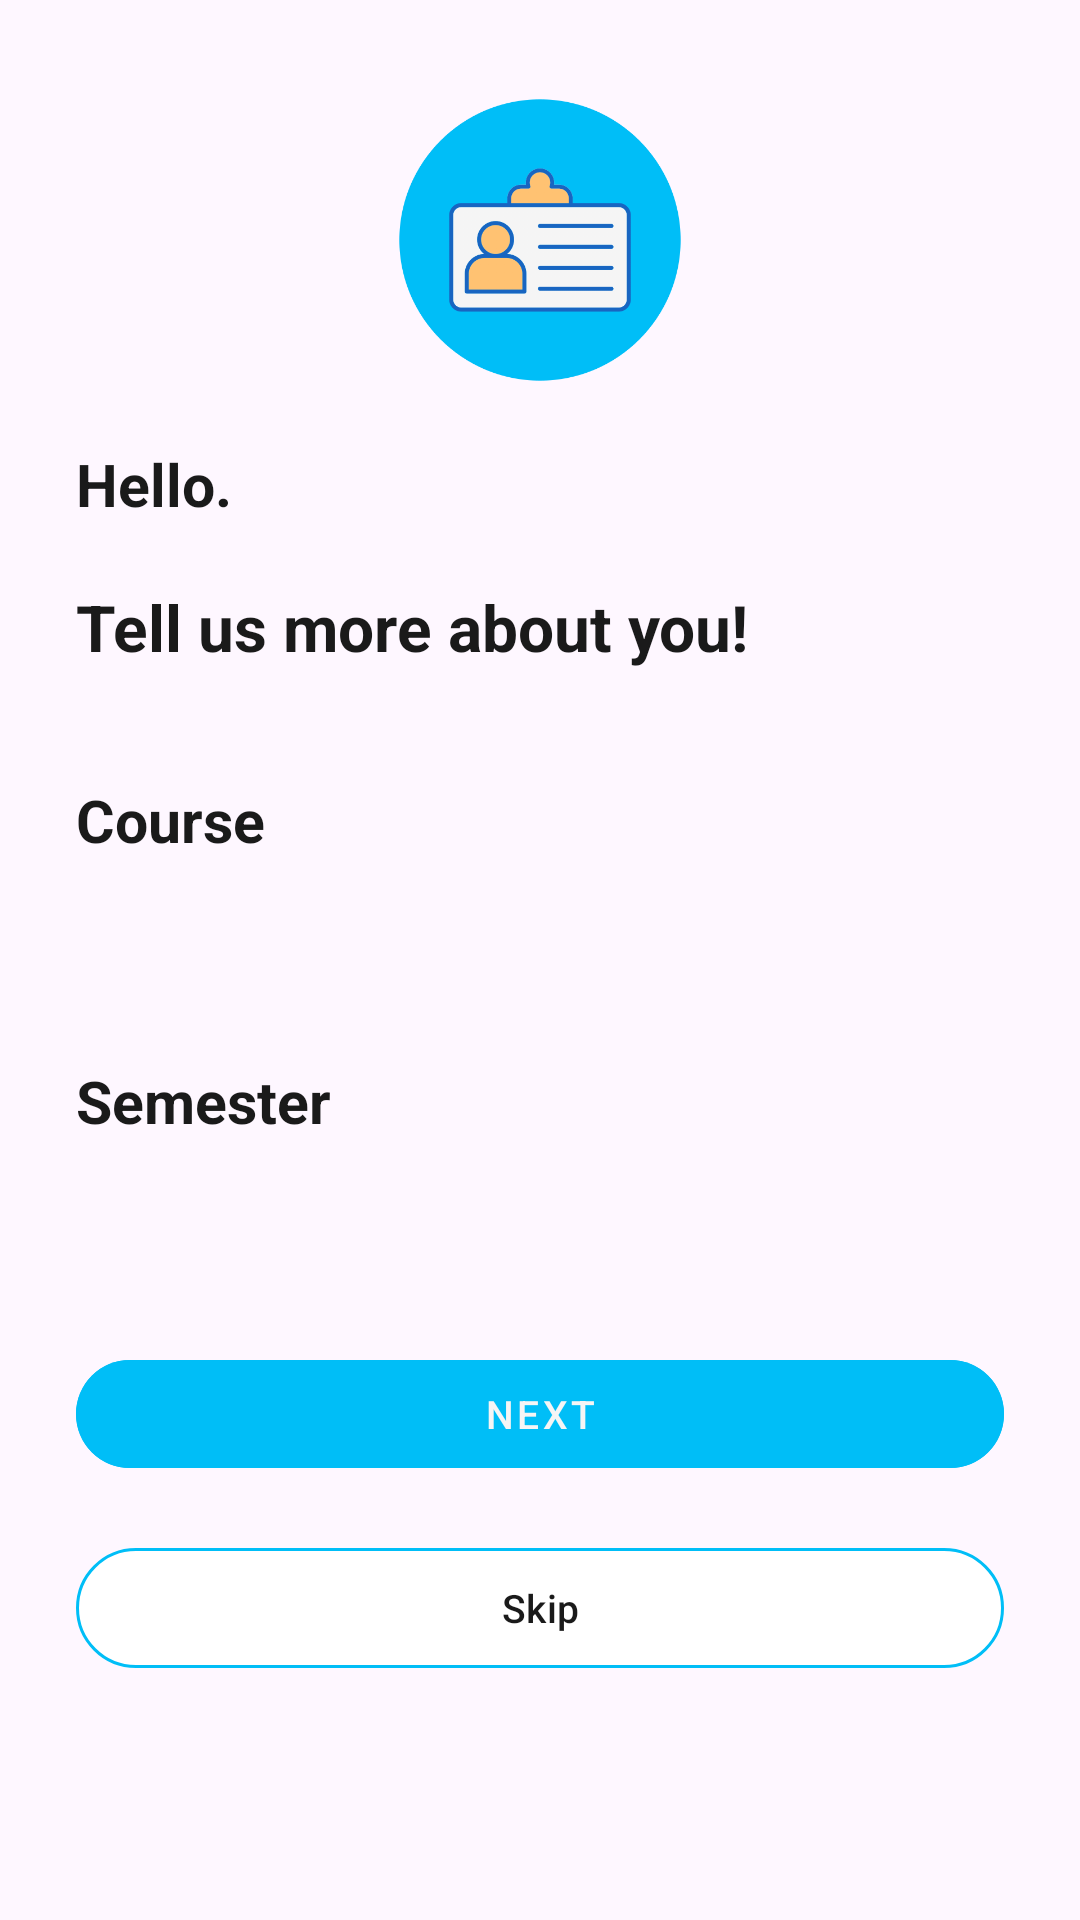

Named icons in this screenshot (1080px x 1920px) and their bounding boxes, (x1, y1, x2, y2):
identification: (399, 99, 681, 381)
